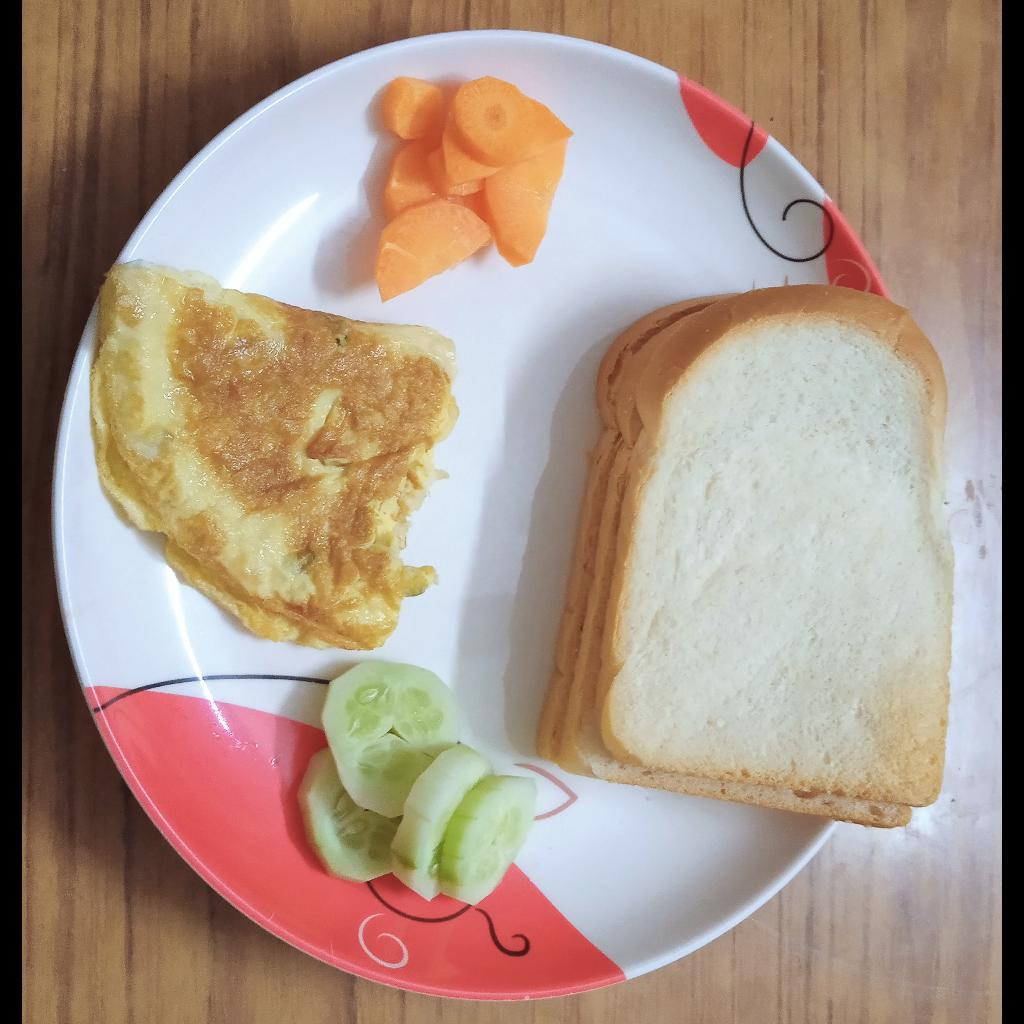bread: (532, 288, 956, 827)
carrot: (373, 76, 576, 304)
cucumber: (293, 661, 541, 910)
egg-poached: (89, 261, 464, 655)
